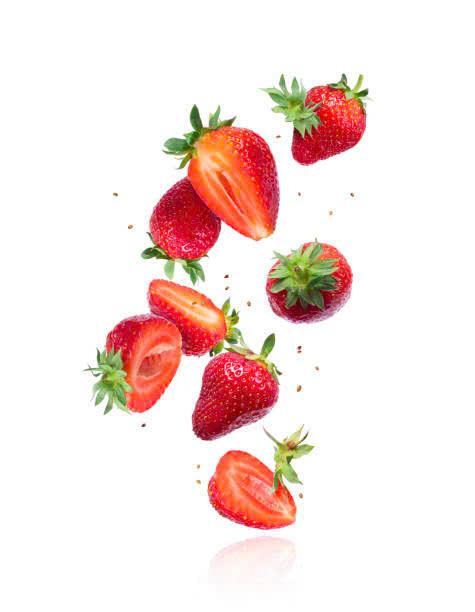strawberry: (187, 116, 288, 248), (202, 446, 305, 540), (282, 75, 376, 168), (190, 350, 289, 438), (262, 241, 356, 319), (149, 171, 224, 267)
